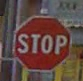stop: (10, 13, 72, 72)
